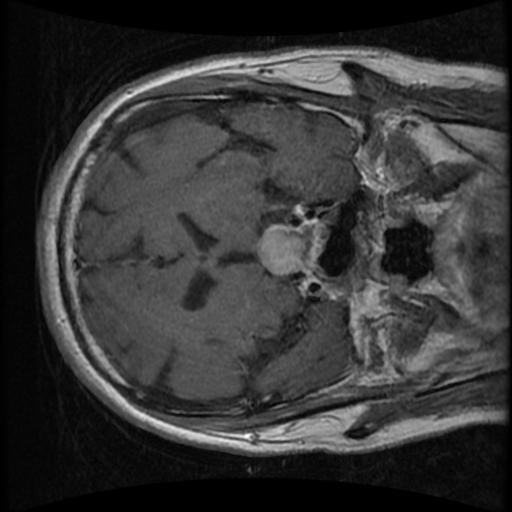pituitary tumour: (256, 227, 304, 273)
